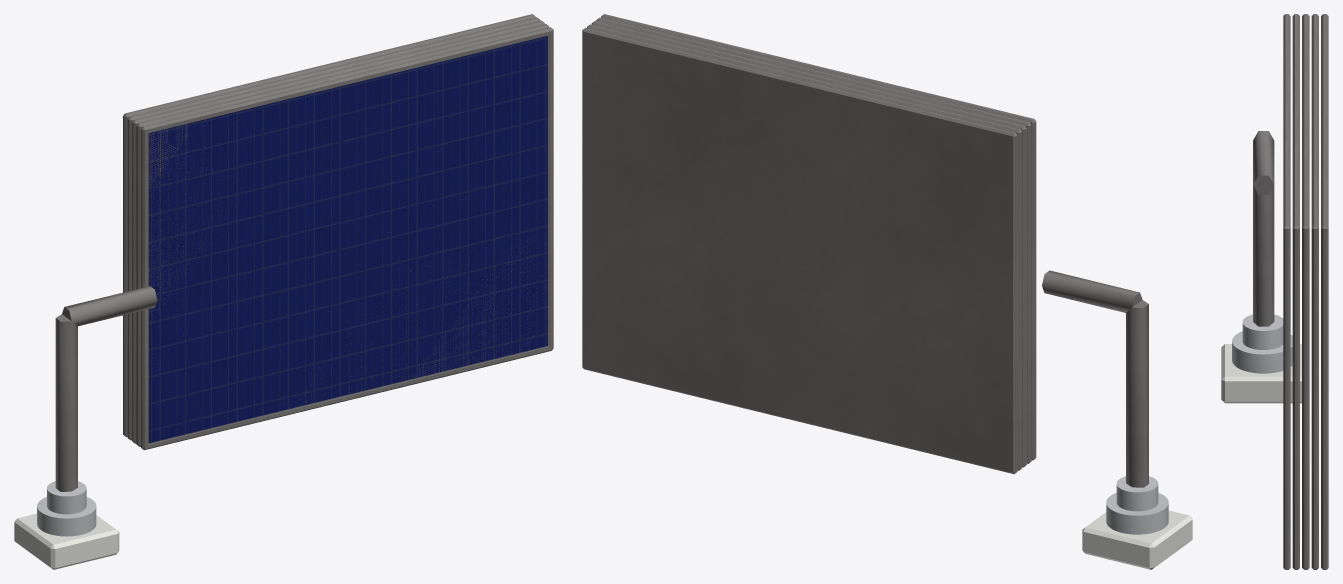
Rendered from ax_power_02_rigid_wing_l.glb.
3 views of the same model, side by side, from view 1: azimuth 30°, elevation 25°; view 2: azimuth 150°, elevation 25°; view 3: azimuth 270°, elevation 25° (orthographic). The views are drawn at different scales.
Visible parts, largest first — view 1: panel_1_cells, panel_1, yoke, panel_4, panel_2, panel_3, panel_5, mount_block, gimbal; view 2: panel_5, yoke, panel_1, panel_4, panel_2, panel_3, mount_block, gimbal; view 3: panel_1, panel_2, panel_3, panel_4, panel_5, yoke, gimbal, mount_block.
Part boxes in pixels (left/top/right/bottom): panel_1_cells: left=148, top=35, right=547, bottom=443; panel_1: left=141, top=27, right=553, bottom=450; yoke: left=55, top=286, right=157, bottom=491; panel_4: left=127, top=17, right=540, bottom=440; panel_2: left=136, top=24, right=548, bottom=446; panel_3: left=132, top=20, right=544, bottom=443; panel_5: left=123, top=14, right=535, bottom=437; mount_block: left=14, top=513, right=119, bottom=569; gimbal: left=37, top=481, right=96, bottom=536; panel_5: left=582, top=27, right=1017, bottom=473; yoke: left=1042, top=270, right=1148, bottom=487; panel_1: left=601, top=14, right=1036, bottom=460; panel_4: left=587, top=24, right=1022, bottom=470; panel_2: left=596, top=17, right=1031, bottom=463; panel_3: left=591, top=21, right=1026, bottom=467; mount_block: left=1082, top=510, right=1192, bottom=569; gimbal: left=1106, top=476, right=1168, bottom=534; panel_1: left=1283, top=14, right=1290, bottom=569; panel_2: left=1292, top=14, right=1299, bottom=569; panel_3: left=1302, top=14, right=1309, bottom=569; panel_4: left=1311, top=14, right=1318, bottom=569; panel_5: left=1321, top=14, right=1328, bottom=569; yoke: left=1253, top=131, right=1274, bottom=326; gimbal: left=1232, top=314, right=1292, bottom=373; mount_block: left=1221, top=344, right=1301, bottom=403.
Bounding box in the file's own units: 3.1 × 2.19 × 0.5075.
Materials: 4 (3 with a texture image).
